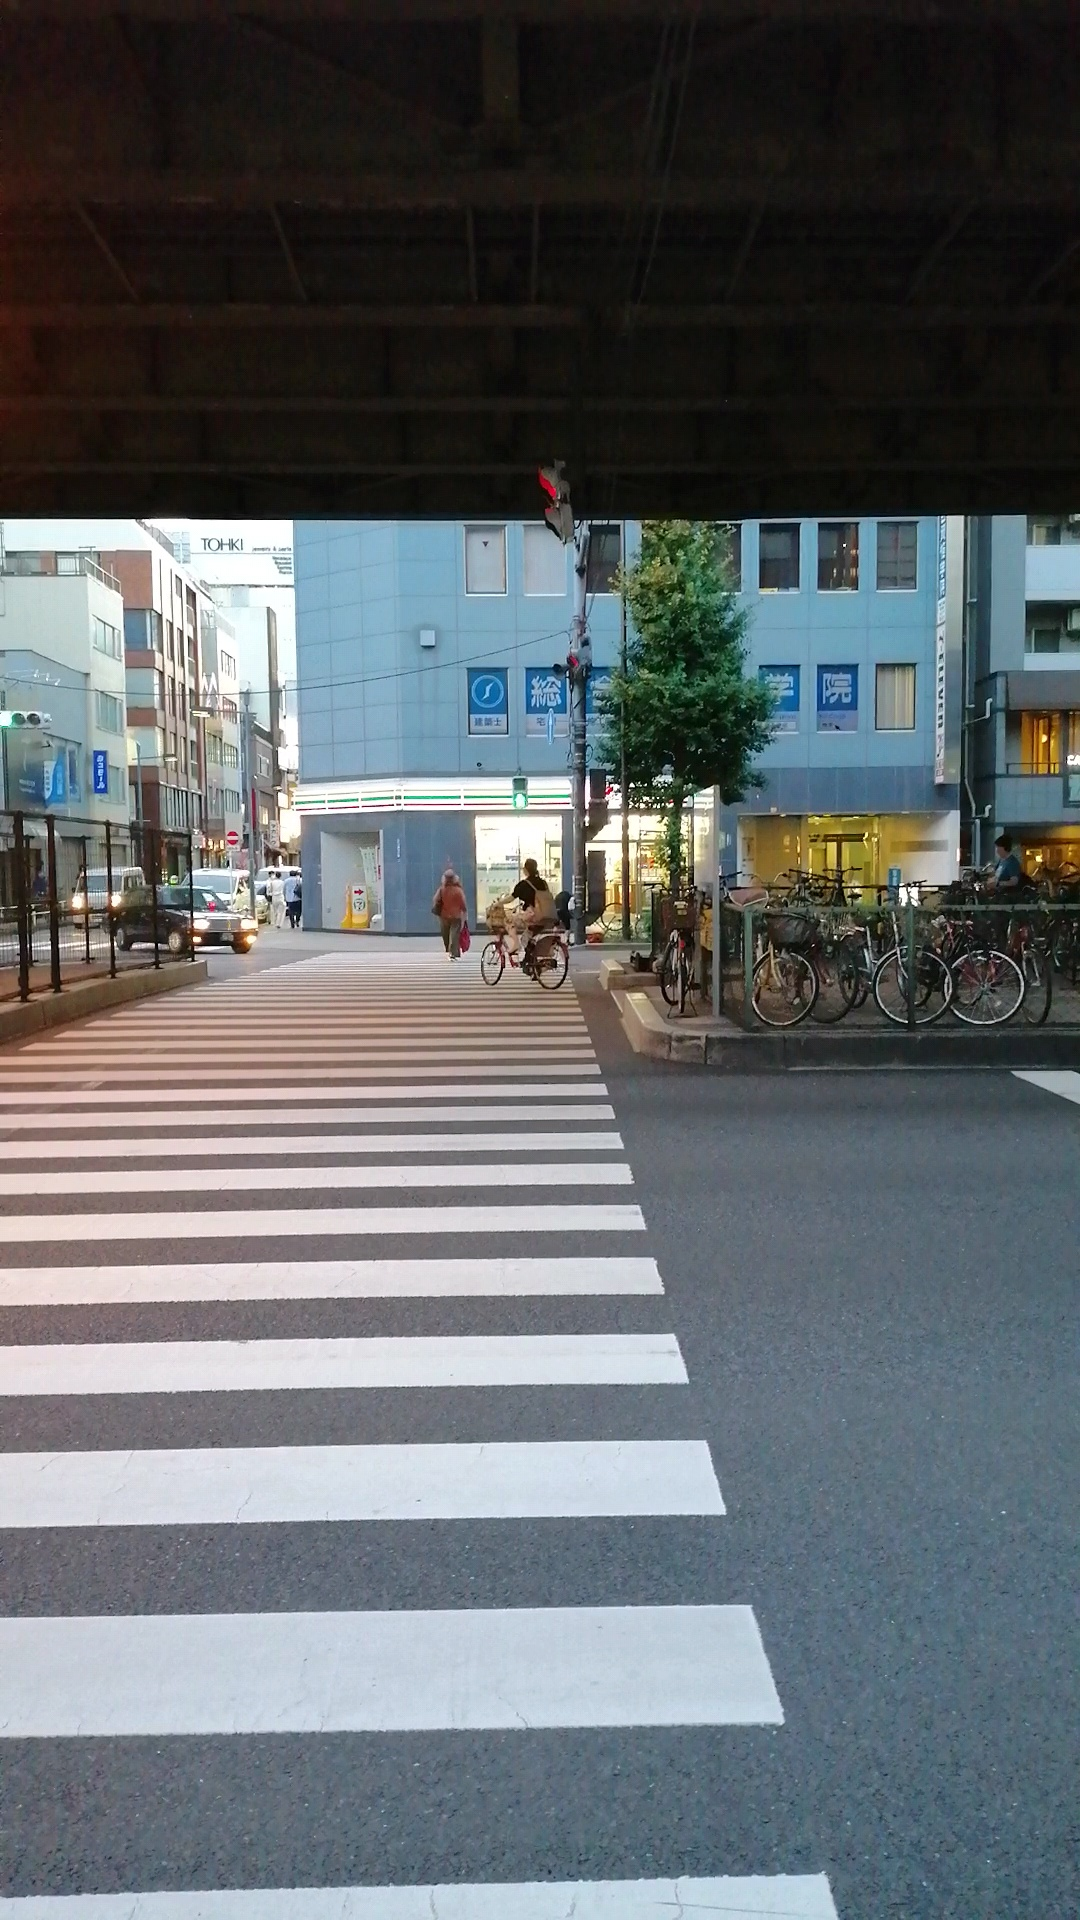green: (509, 775, 529, 814)
